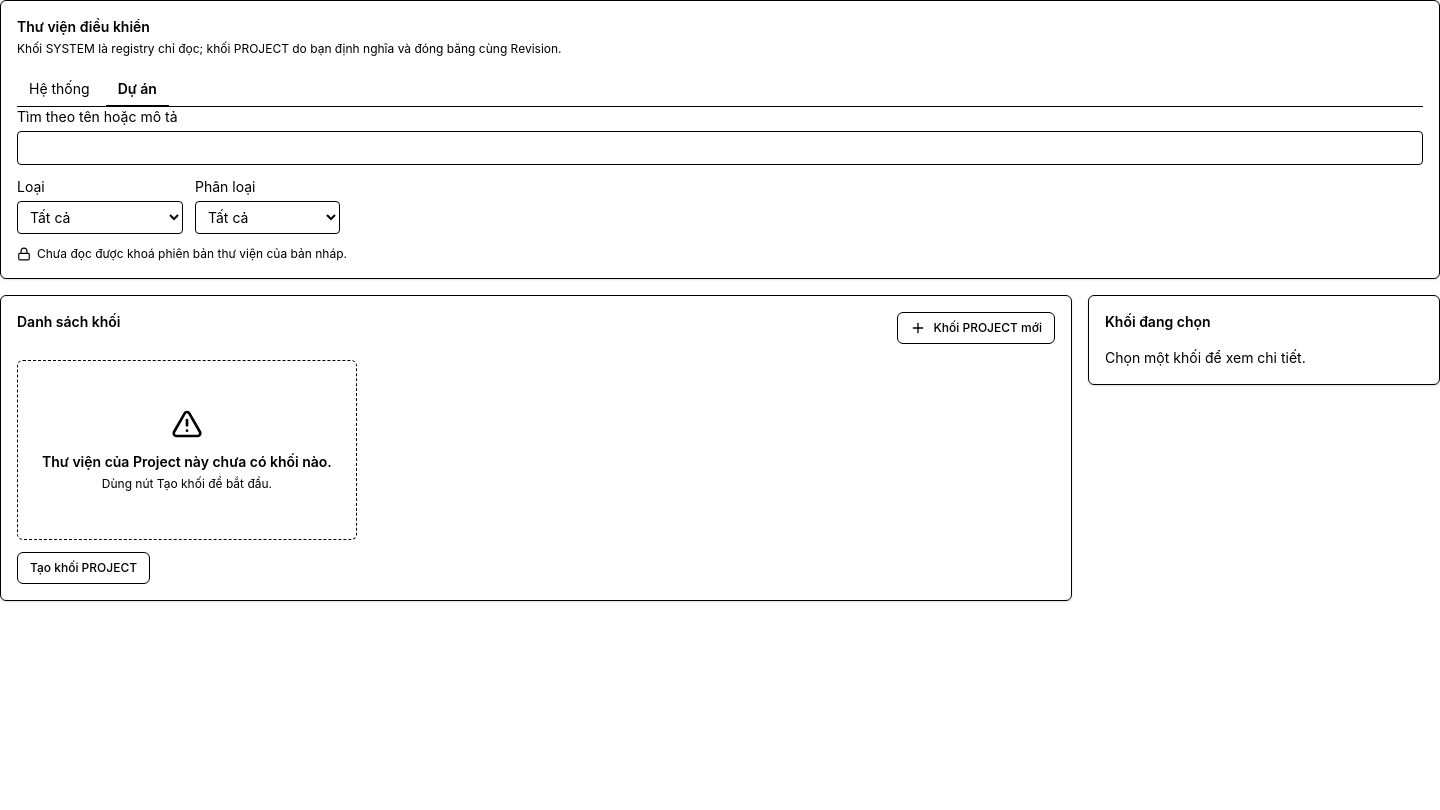
Test: PGM-04 Control Library › có bộ lọc mà 0 kết quả thì mới nói về bộ lọc
Expected: the heading "Thư viện của Project này chưa có khối nào." is shown, [42,452,332,472]
Type "khong-ton-tai" into the search field labelled "Tìm theo tên hoặc mô tả".
click(720, 148); type("khong-ton-tai")  # box [17,131,1423,165]
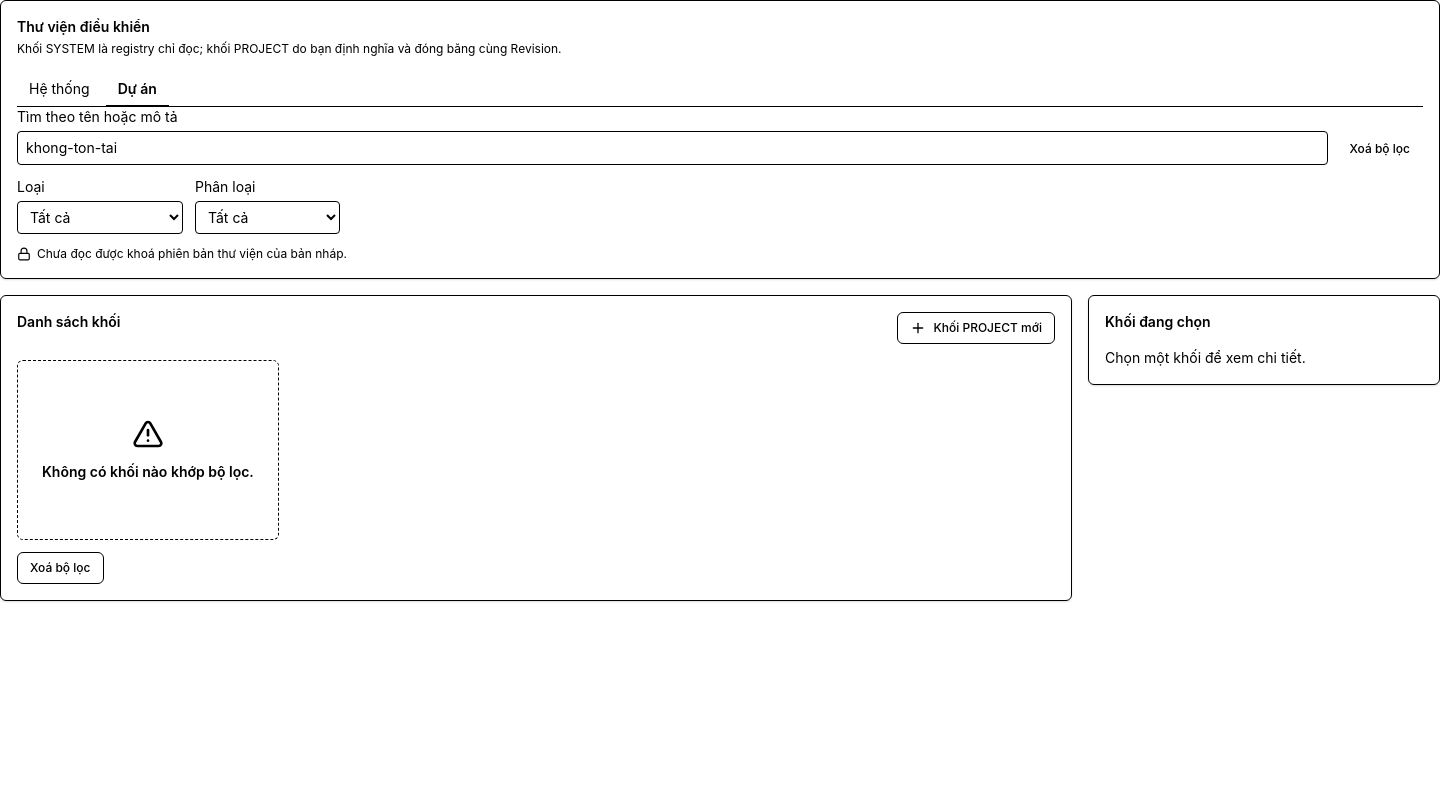
Now the heading "Không có khối nào khớp bộ lọc." is shown, box [42,462,254,482]
